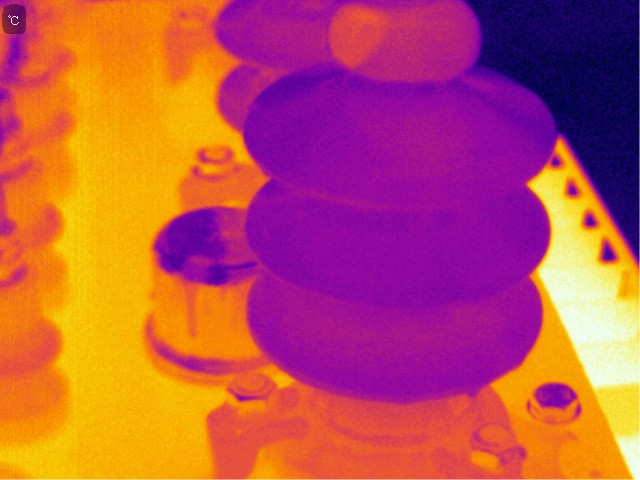Oil: (330, 2, 485, 81), (366, 101, 484, 181), (321, 1, 392, 74), (474, 76, 513, 108)
